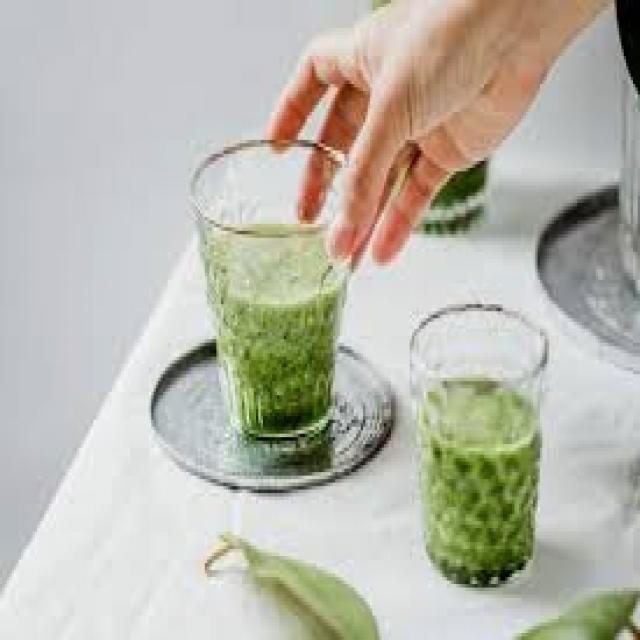organic waste: (205, 227, 333, 416), (419, 381, 528, 563), (205, 524, 377, 636), (512, 588, 638, 636)
